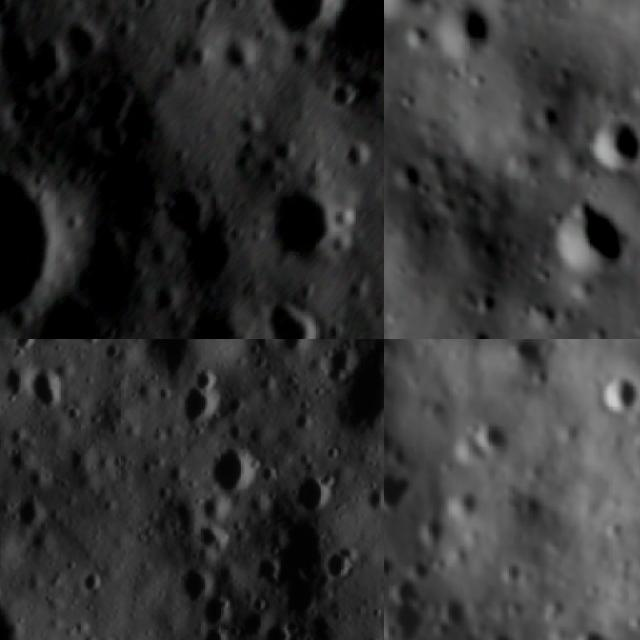crater: (0, 155, 82, 339), (139, 175, 247, 292), (248, 0, 356, 77), (258, 188, 351, 275), (552, 188, 618, 278), (240, 287, 335, 339), (206, 443, 266, 507), (56, 11, 115, 69), (440, 3, 500, 57), (20, 364, 72, 426), (174, 367, 223, 432), (590, 365, 640, 428), (290, 462, 339, 520), (466, 411, 517, 462), (316, 544, 362, 598), (590, 118, 638, 164), (175, 562, 218, 608), (8, 493, 51, 535), (384, 465, 415, 518), (262, 612, 303, 640), (564, 619, 618, 640), (202, 591, 233, 626), (532, 103, 564, 134), (78, 566, 104, 600), (98, 339, 124, 369), (196, 622, 233, 640), (8, 339, 41, 359), (384, 555, 397, 583), (0, 579, 7, 605)
